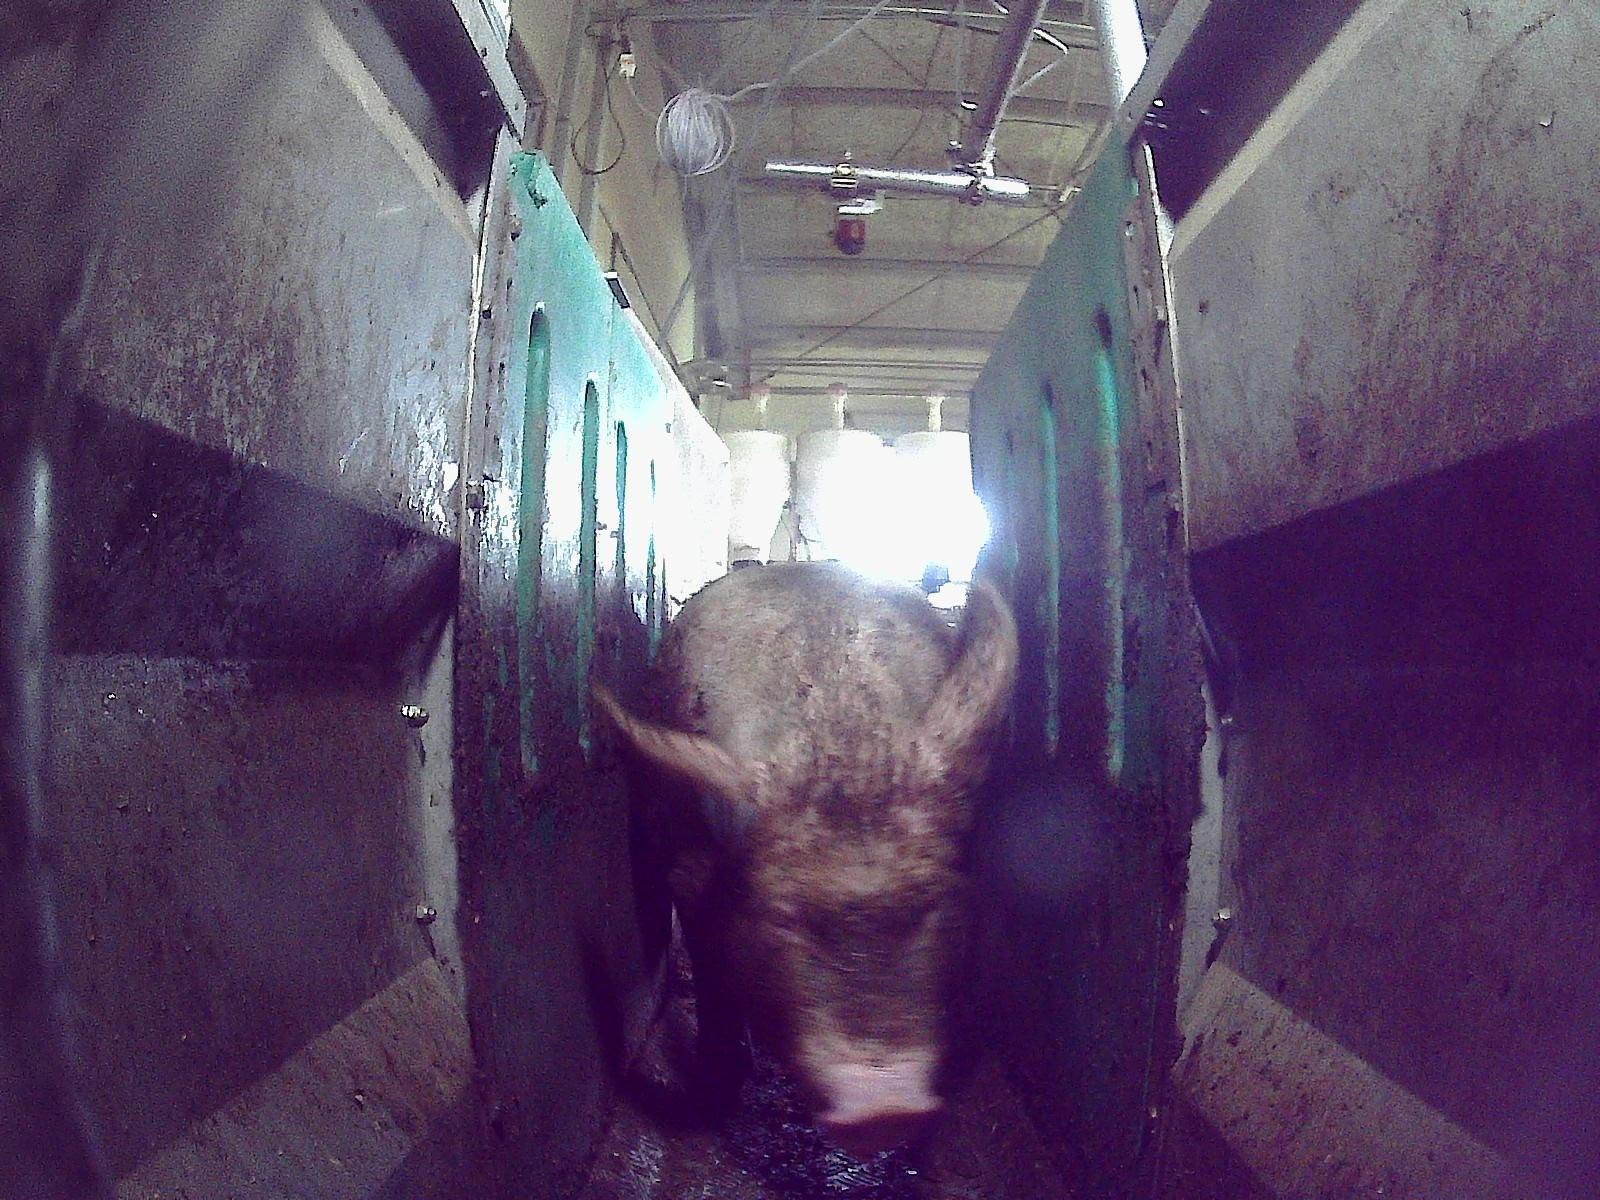Face: (701, 716, 959, 1160)
